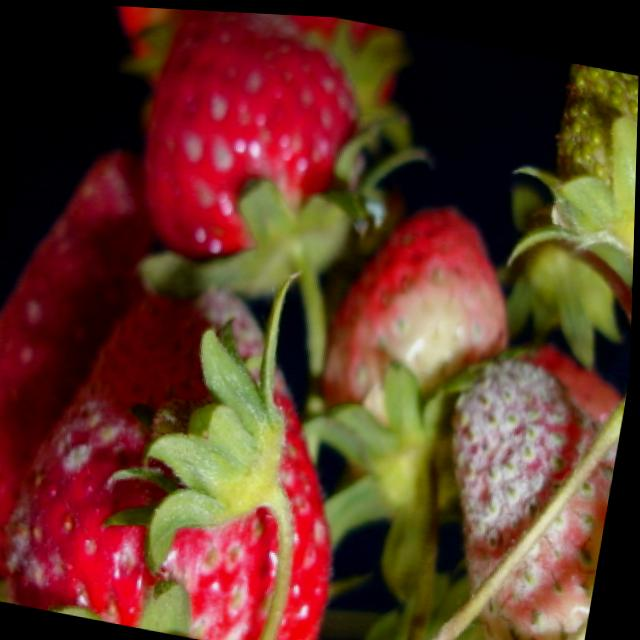Powdery Mildew Fruit: (0, 271, 329, 640), (0, 150, 172, 543), (138, 7, 369, 286), (450, 348, 621, 640)
